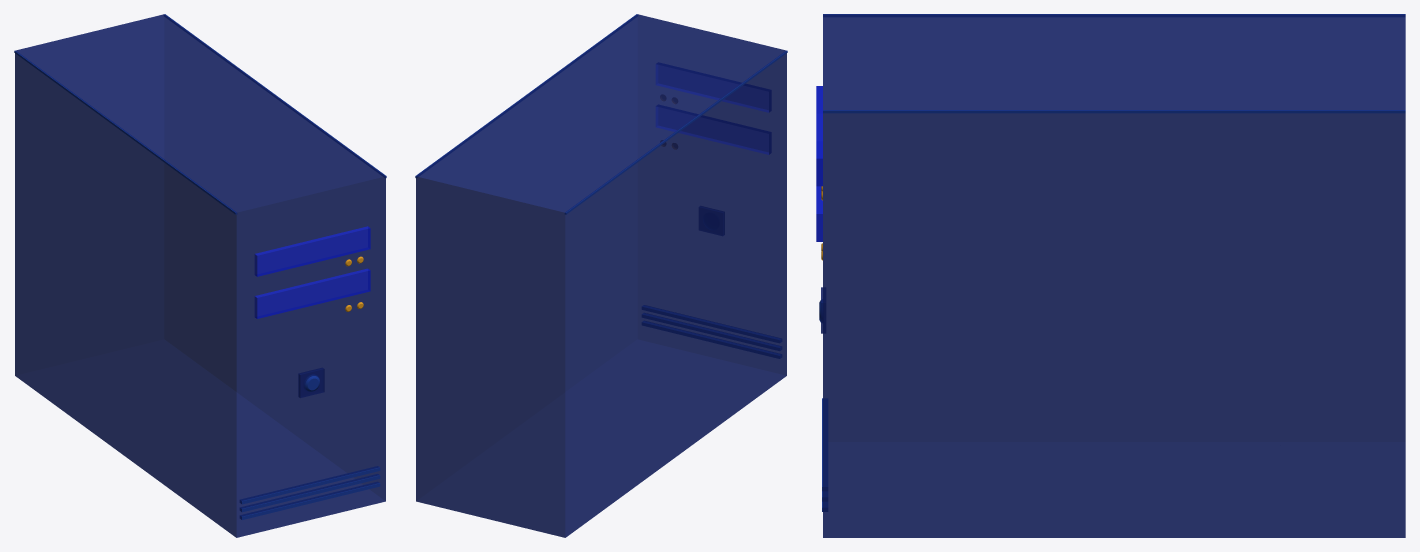
The model's file is zhuji.FBX.
The picture shows the model from 3 angles, left to right: view 1: azimuth 30°, elevation 25°; view 2: azimuth 150°, elevation 25°; view 3: azimuth 270°, elevation 25°; orthographic projection. The views are drawn at different scales.
Parts seen in each view (by area): view 1: 对象279, 对象283, 对象282, Box221, Line019, Line018; view 2: 对象279, 对象282, 对象283, Box221, Line019, Line018; view 3: 对象279, Line018, Line019, 对象283, Box221.
Boxes of the visible parts, x1,y1,x2,y2 form: 对象279: [15, 14, 385, 537]; 对象283: [254, 226, 370, 276]; 对象282: [254, 268, 370, 318]; Box221: [240, 466, 380, 519]; Line019: [14, 50, 236, 214]; Line018: [164, 14, 386, 177]; 对象279: [416, 14, 786, 537]; 对象282: [656, 106, 768, 154]; 对象283: [656, 64, 768, 112]; Box221: [642, 305, 781, 358]; Line019: [564, 50, 787, 214]; Line018: [415, 14, 637, 178]; 对象279: [821, 14, 1405, 537]; Line018: [823, 110, 1405, 113]; Line019: [823, 14, 1405, 16]; 对象283: [816, 86, 822, 186]; Box221: [822, 398, 827, 511].
Bounding box in the file's own units: 248 × 510 × 637.
